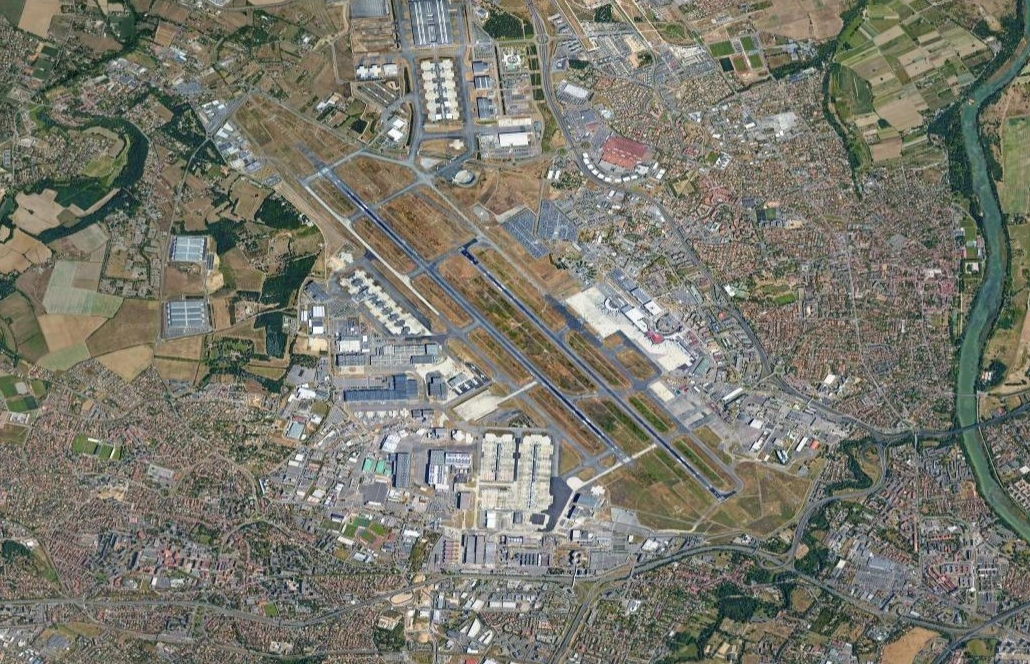airport: (290, 1, 745, 530)
bridge: (958, 420, 981, 435)
motorway: (817, 581, 926, 626), (549, 584, 607, 664), (304, 589, 400, 630), (525, 1, 559, 115), (708, 278, 762, 349), (664, 212, 715, 285), (589, 174, 669, 215), (794, 391, 868, 431), (610, 549, 691, 583), (555, 110, 592, 179), (205, 604, 304, 629), (819, 471, 887, 507), (760, 550, 818, 588), (783, 502, 820, 559), (756, 344, 794, 395), (918, 632, 976, 664), (467, 571, 612, 583), (400, 574, 467, 597), (987, 600, 1030, 632), (860, 424, 888, 473), (925, 620, 986, 641), (981, 401, 1030, 427), (86, 601, 204, 611), (1, 596, 85, 608), (888, 427, 955, 442), (692, 544, 763, 557)
